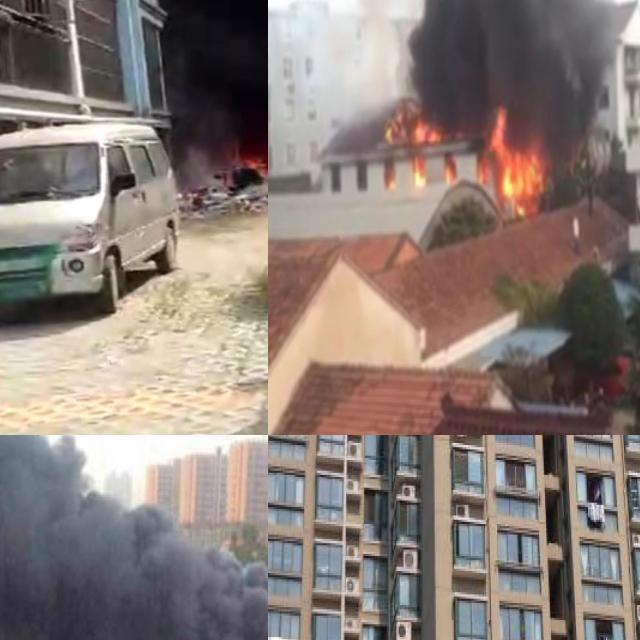fire: (484, 119, 548, 215), (386, 114, 460, 192), (243, 151, 268, 170)
smoke: (0, 435, 268, 640), (346, 0, 616, 148), (154, 0, 268, 168)
